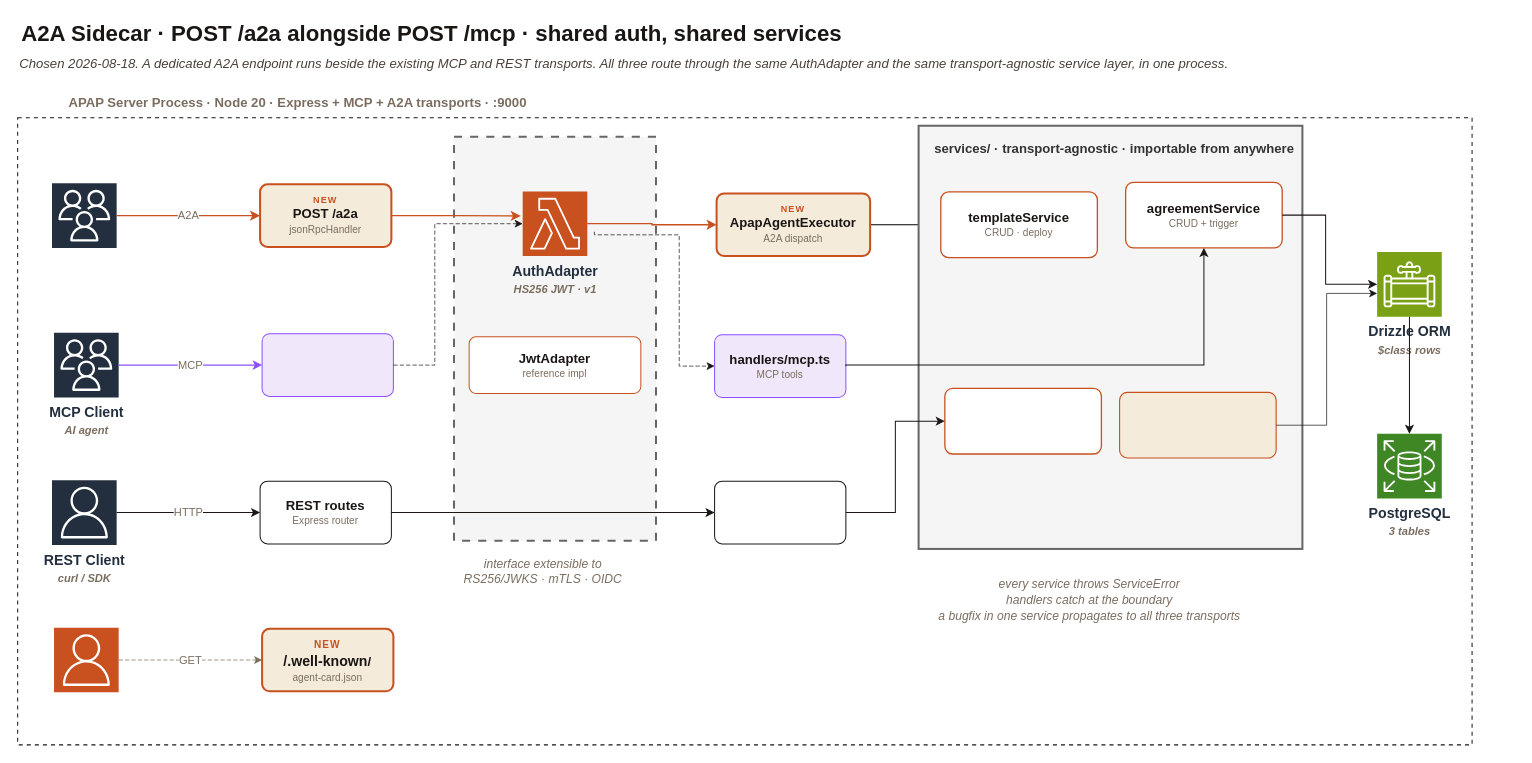
The diagram is 1532 pixels wide and 763 high, and some of its shapes have lost their labels. The shapes that lost their labels are listed below. From the top down, each one's box as (x1, y1, x2, y2) in pixels, then its label:
(51, 182, 117, 248): A2A Agent @a2a-js/sdk
(452, 135, 656, 541): AUTH · SHARED · NEW IN PR 1
(261, 333, 393, 396): POST /mcp NodeStreamable
(944, 387, 1102, 454): sharedModelService CRUD
(1119, 391, 1276, 458): errors.ts 6 subclasses
(714, 480, 846, 544): routes/api.ts REST router
(53, 627, 119, 692): Discovery any A2A client
